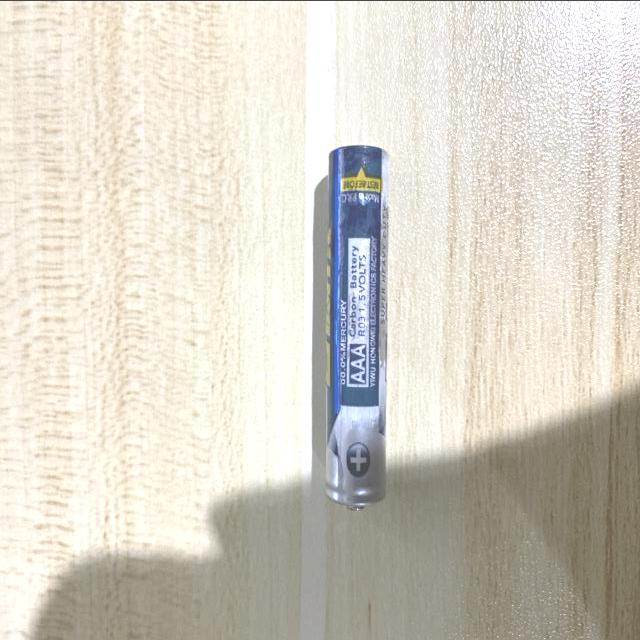AAA: (327, 143, 392, 514)
